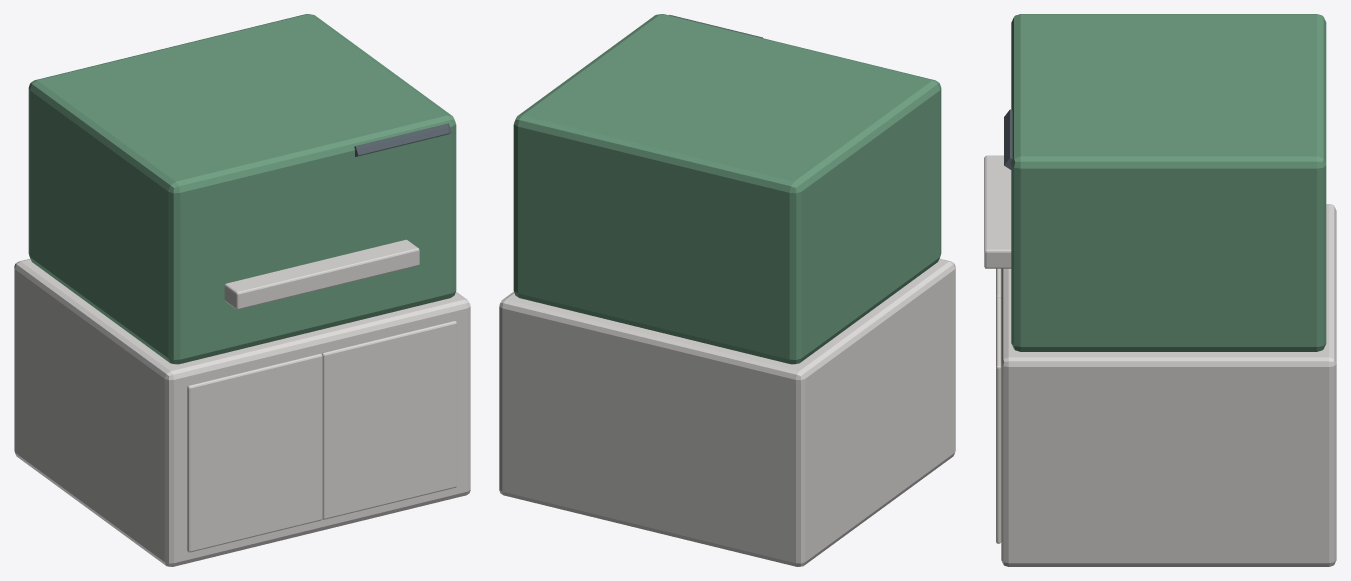
Rendered from print___utility_office_asset_library_64.glb.
The picture shows the model from 3 angles, left to right: view 1: azimuth 30°, elevation 25°; view 2: azimuth 150°, elevation 25°; view 3: azimuth 270°, elevation 25°; orthographic projection. The views are drawn at different scales.
Visible parts, largest first — view 1: Cube; view 2: Cube; view 3: Cube.
Boxes of the visible parts, x1,y1,x2,y2 form: Cube: (14,14,470,566); Cube: (499,14,955,566); Cube: (984,14,1336,566).
Size of the model in its own units: 0.72 by 0.8526 by 0.672.
